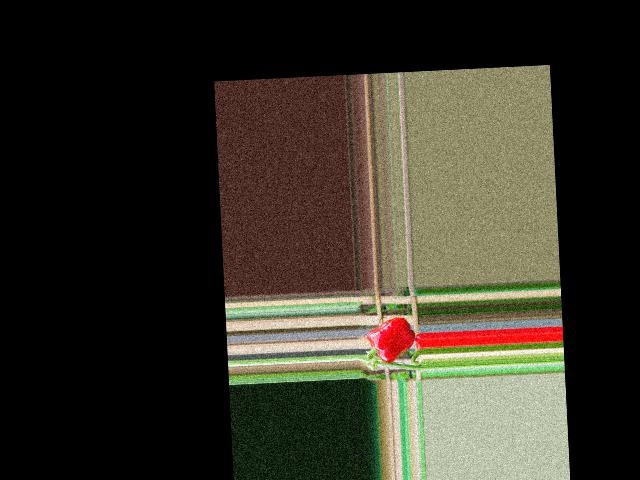bell_pepper: (365, 313, 416, 367)
